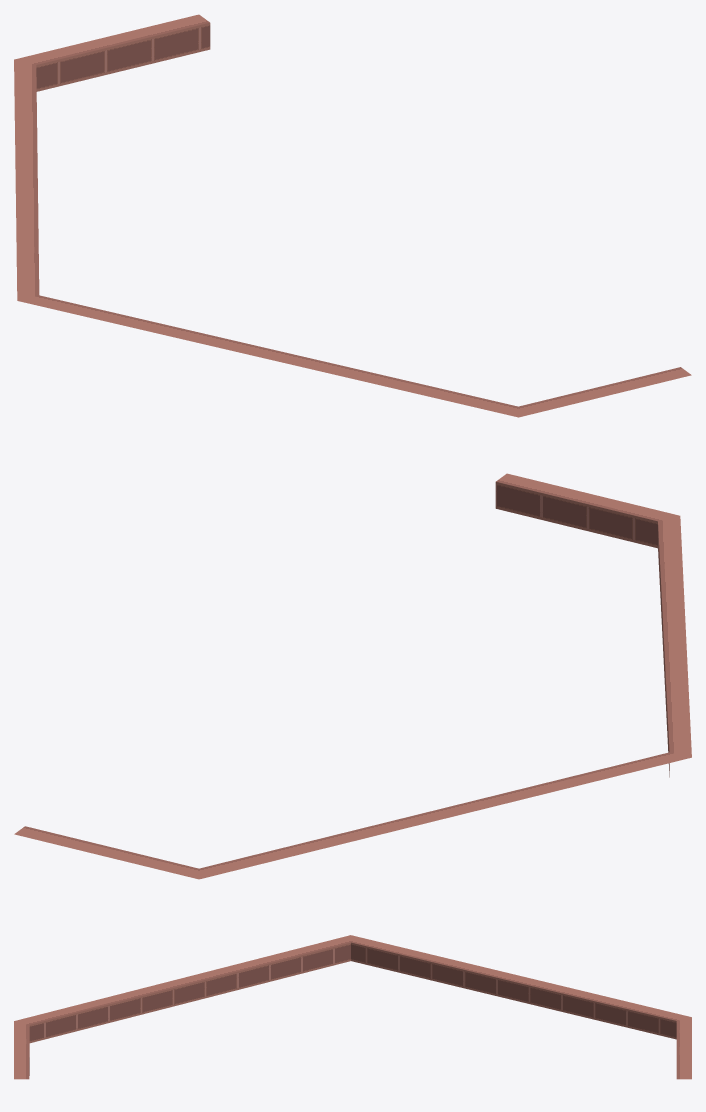
File: kd_stage_135fe0_0_4_bounded.glb
3 views of the same model, one above another, from view 1: azimuth 30°, elevation 25°; view 2: azimuth 150°, elevation 25°; view 3: azimuth 270°, elevation 25° (orthographic). The views are drawn at different scales.
Visible parts, largest first — view 1: kd_stage_135fe0_0_4_bounded; view 2: kd_stage_135fe0_0_4_bounded; view 3: kd_stage_135fe0_0_4_bounded.
Part boxes in pixels (x1,y1,x2,y2): kd_stage_135fe0_0_4_bounded: [14, 14, 691, 417]; kd_stage_135fe0_0_4_bounded: [14, 473, 691, 879]; kd_stage_135fe0_0_4_bounded: [14, 935, 691, 1079].
Size of the model in its own units: 8.33 by 0.5 by 16.55.
1 material, 1 textured.
